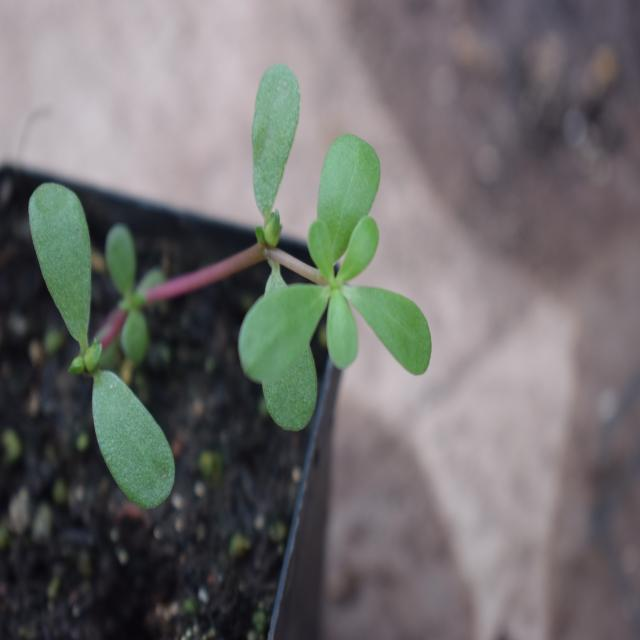purslane: (29, 59, 438, 478)
